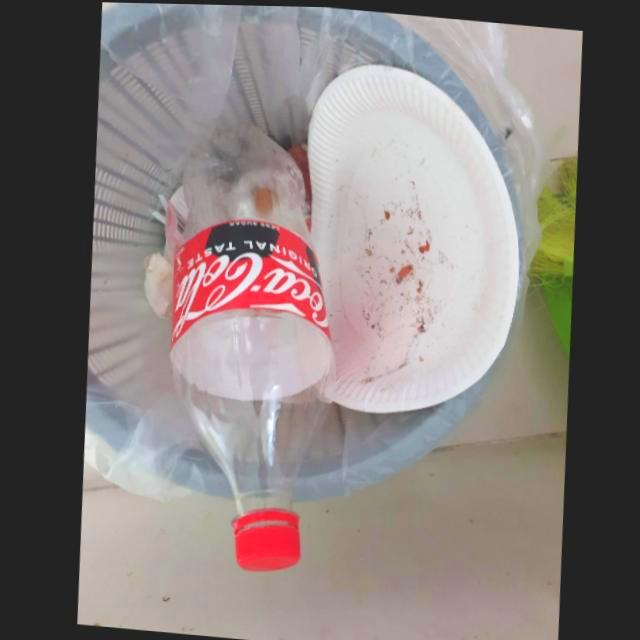cardboard: (306, 59, 519, 410)
paper: (141, 248, 171, 318)
plastic_bottle: (167, 124, 333, 569)
